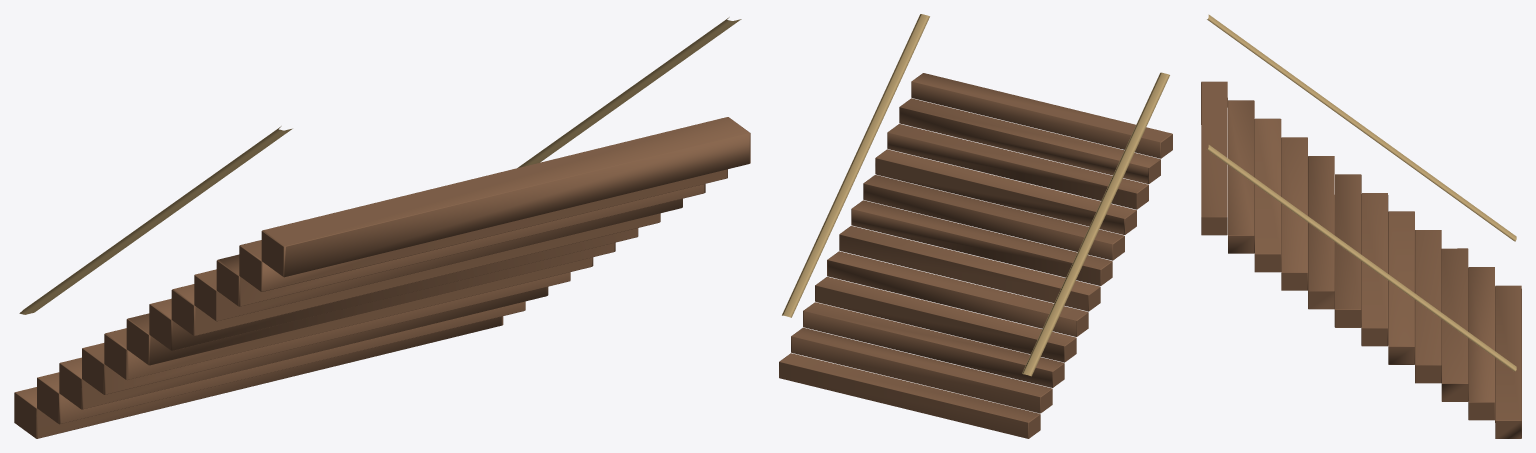
File: stairs-18-0.lod.glb
The picture shows the model from 3 angles, left to right: view 1: azimuth 30°, elevation 25°; view 2: azimuth 150°, elevation 25°; view 3: azimuth 270°, elevation 25°; orthographic projection. The views are drawn at different scales.
Visible parts, largest first — view 1: tread, part; view 2: tread, part; view 3: tread, part.
Part boxes in pixels (x1,y1,x2,y2): tread: (14,117,750,438); part: (19,17,741,314); tread: (779,73,1172,438); part: (782,14,1169,376); tread: (1201,81,1521,438); part: (1207,14,1516,371).
Bounding box in the file's own units: 1 × 1 × 1.
